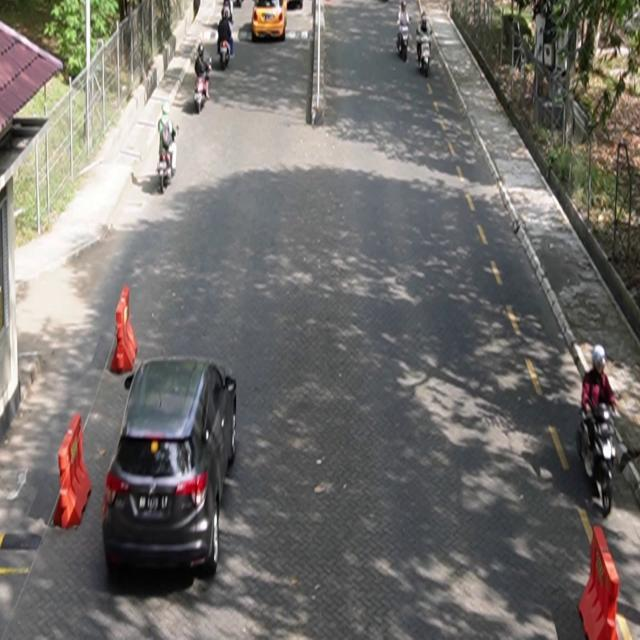car: (103, 356, 238, 577)
